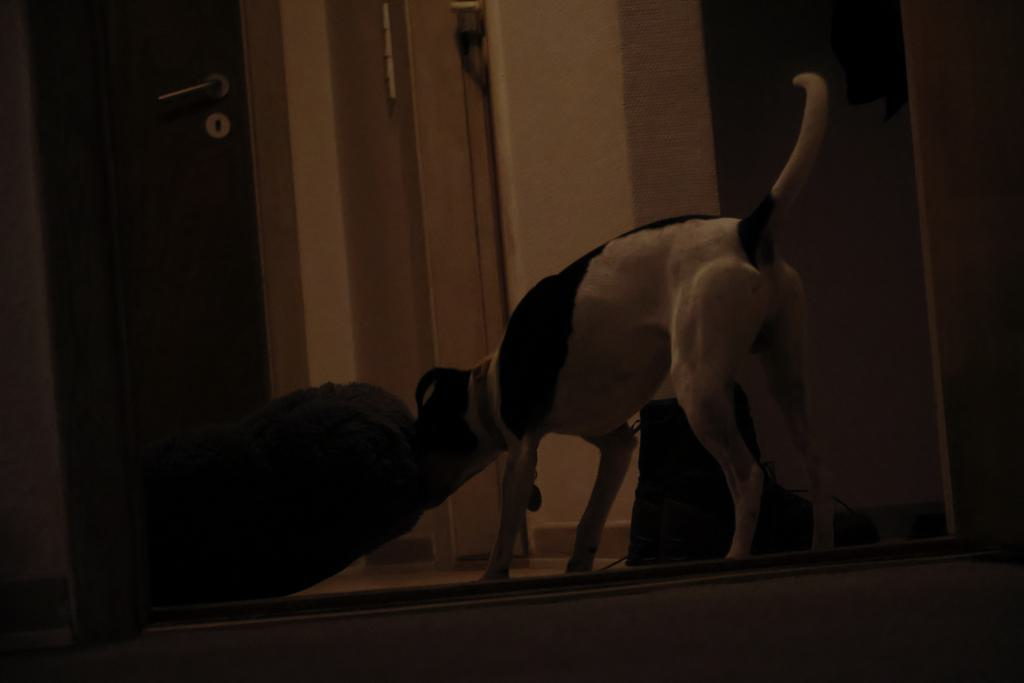Dog: (382, 57, 862, 584)
